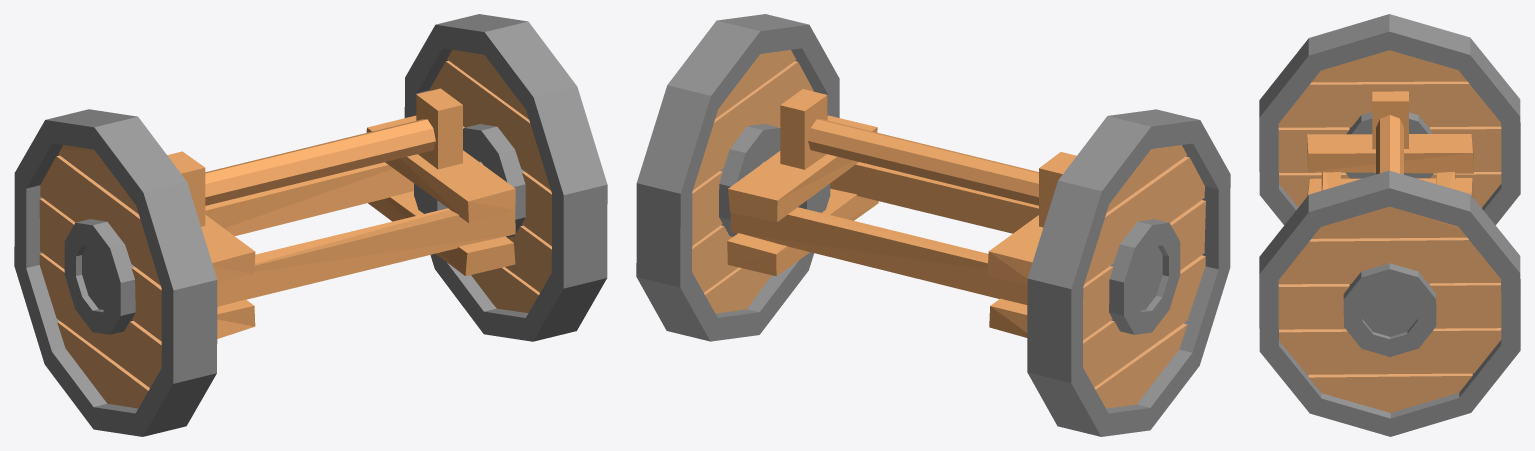
Rendered from ballista_wheel.fbx.
The picture shows the model from 3 angles, left to right: view 1: azimuth 30°, elevation 25°; view 2: azimuth 150°, elevation 25°; view 3: azimuth 270°, elevation 25°; orthographic projection. The views are drawn at different scales.
Visible parts, largest first — view 1: ballista_wheel; view 2: ballista_wheel; view 3: ballista_wheel.
Boxes of the visible parts, <box> form: ballista_wheel: <box>14,14,607,436</box>; ballista_wheel: <box>636,14,1230,436</box>; ballista_wheel: <box>1259,14,1520,436</box>.
Bounding box in the file's own units: 1.82 × 1.21 × 1.15.
